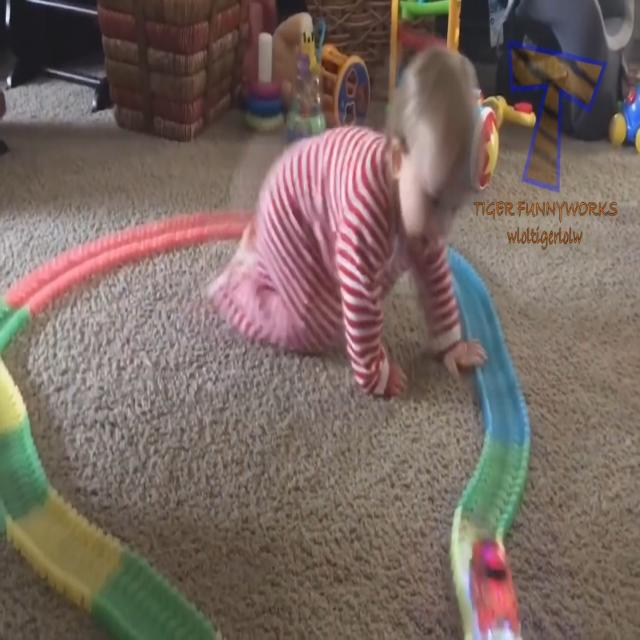safe: (222, 48, 488, 410)
